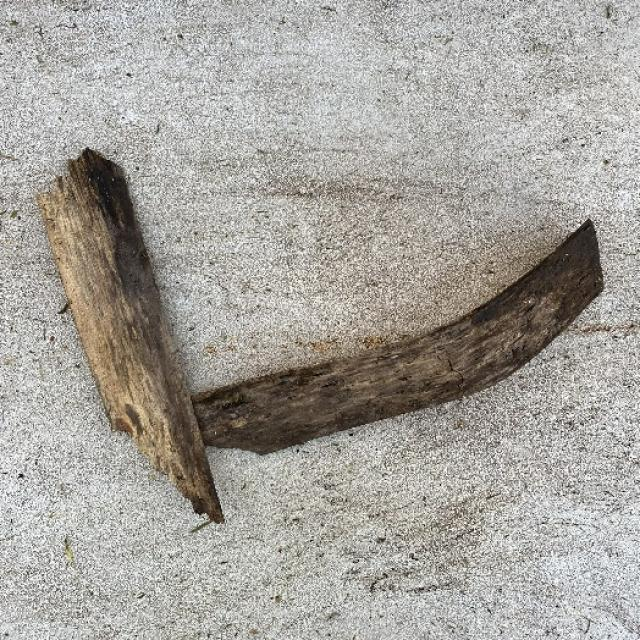organic: (191, 216, 603, 459), (32, 137, 245, 528)
